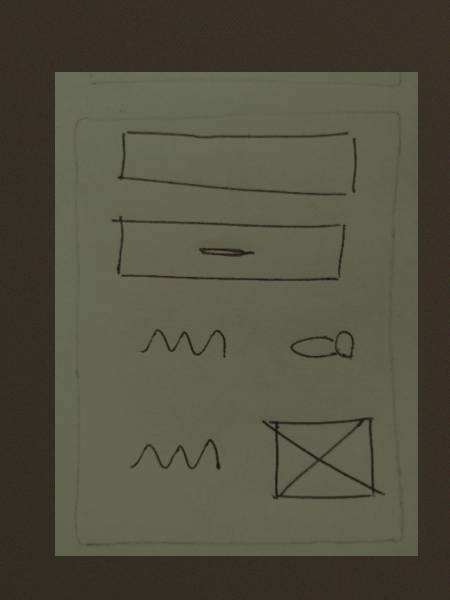button: (109, 214, 354, 295)
image: (258, 415, 391, 503)
switch: (283, 326, 359, 368)
text: (125, 428, 228, 486), (133, 319, 233, 367)
text_input: (116, 125, 362, 206)
